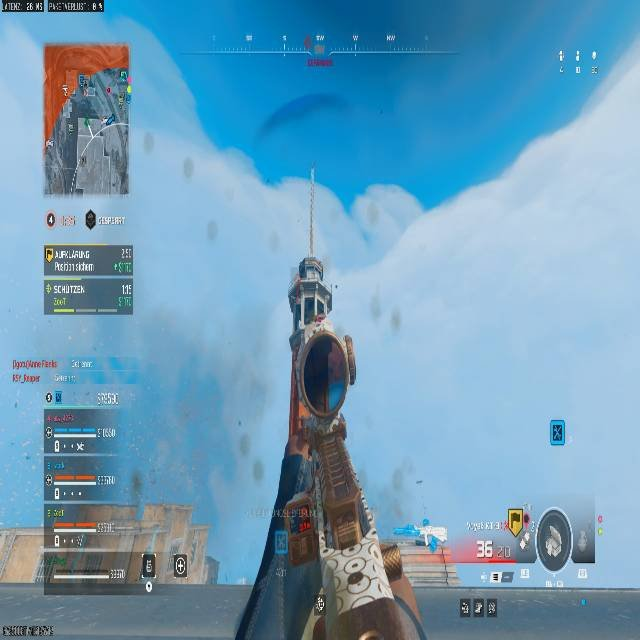head: (298, 255, 325, 282)
player: (139, 550, 157, 593)
